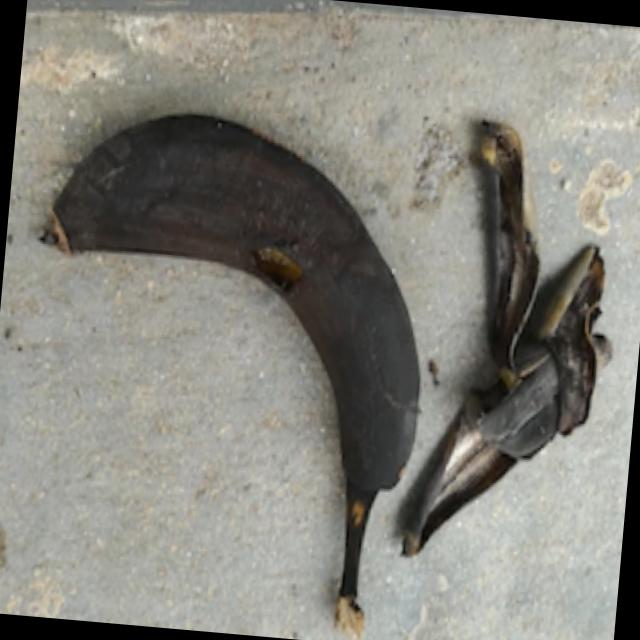rotten-banana: (19, 103, 442, 536)
